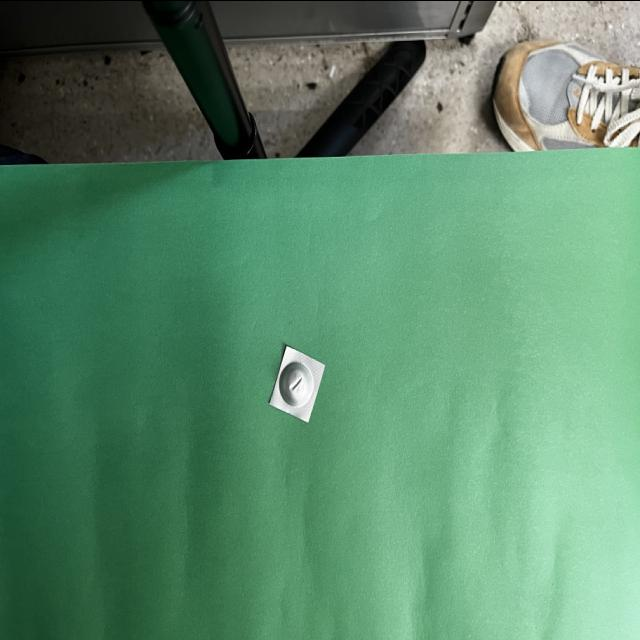Other Objects: (255, 334, 338, 466)
